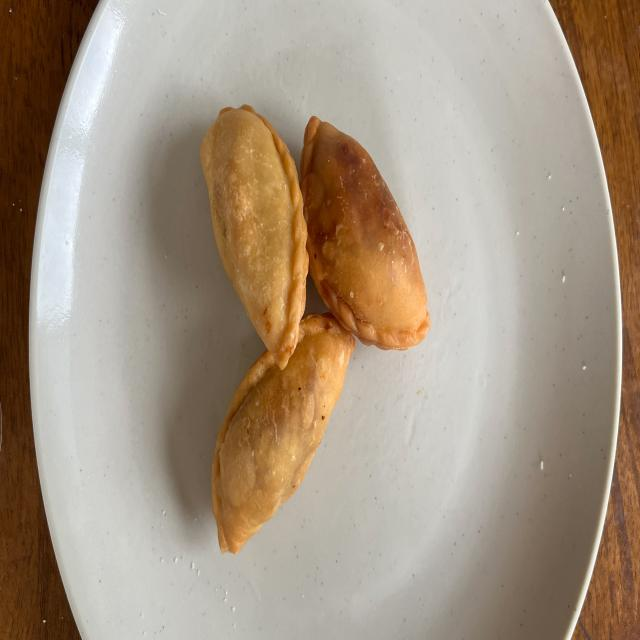karipap: (211, 313, 356, 553), (300, 116, 430, 349), (200, 104, 309, 369)
